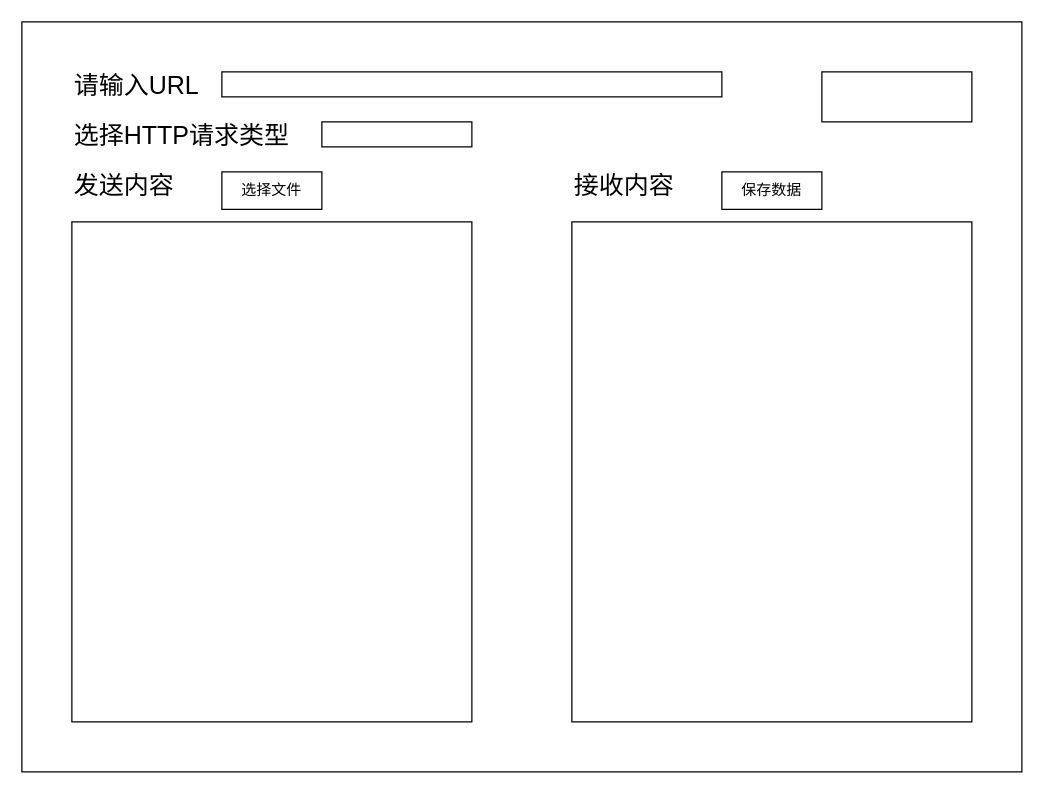
The diagram is 1044 pixels wide and 794 high, and some of its shapes have lost their labels. Here are the shapes that lost their labels. From the top down, the box of each, then its label:
(821, 71, 972, 122): 发送请求
(321, 121, 472, 147): GET
